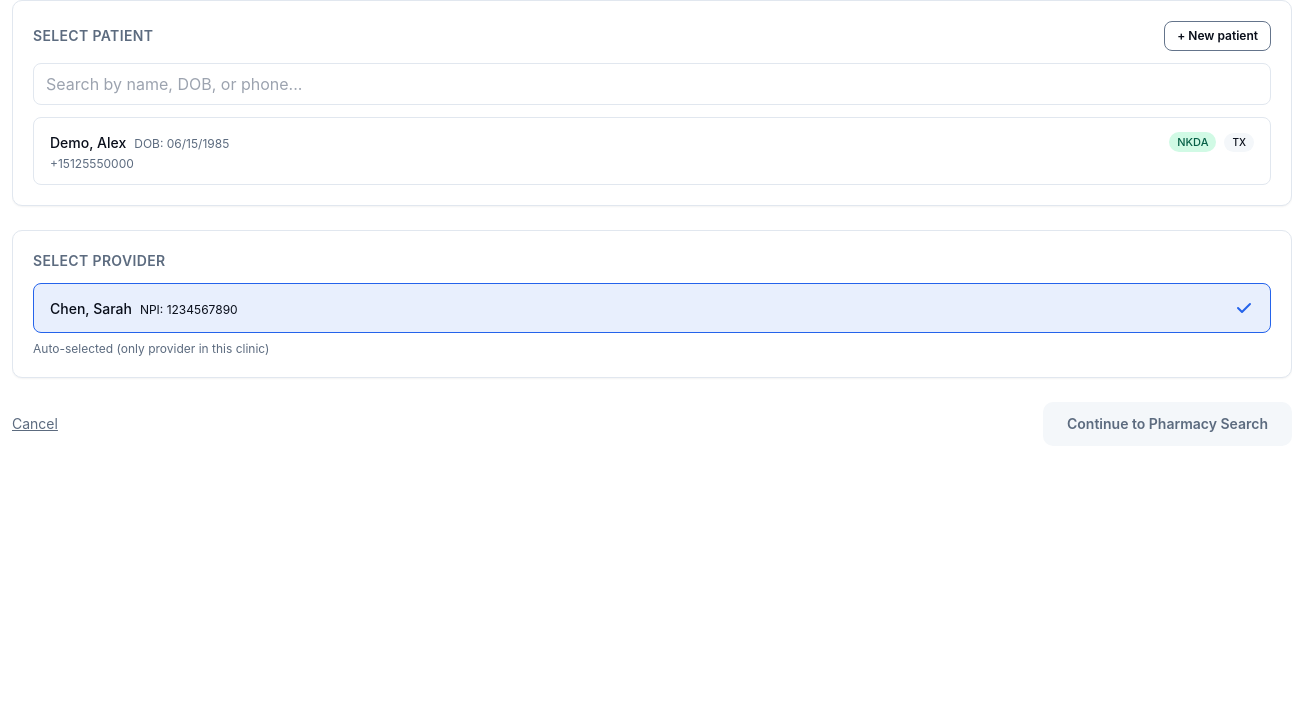
PatientProviderSelector — MA / clinic admin (unchanged) › still auto-selects when the clinic has exactly one provider
The image size is (1304, 720).
Expected: the text "Auto-selected (only provider in this clinic)" is shown, [33,341,269,356]
Click the button "Demo, Alex" at (88,142), box [34,118,1270,184]
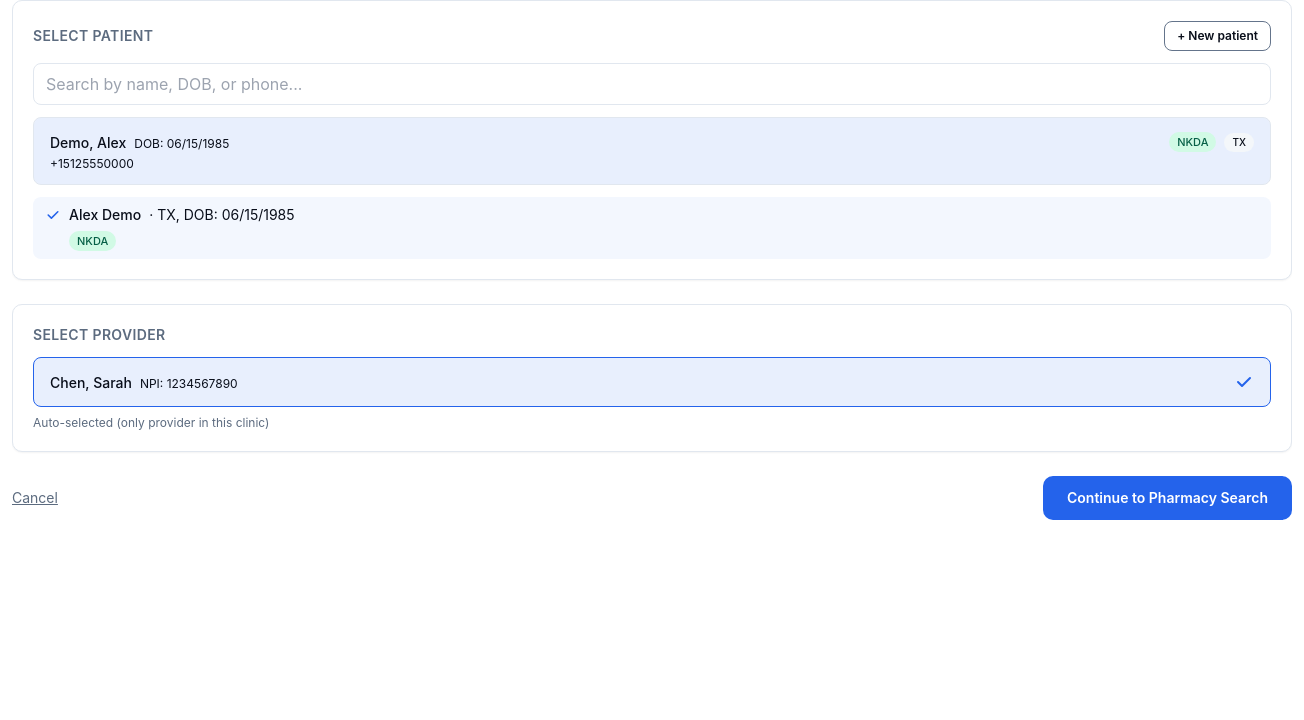
Expected: the button "Continue to Pharmacy Search" is enabled, [1043,476,1292,520]
